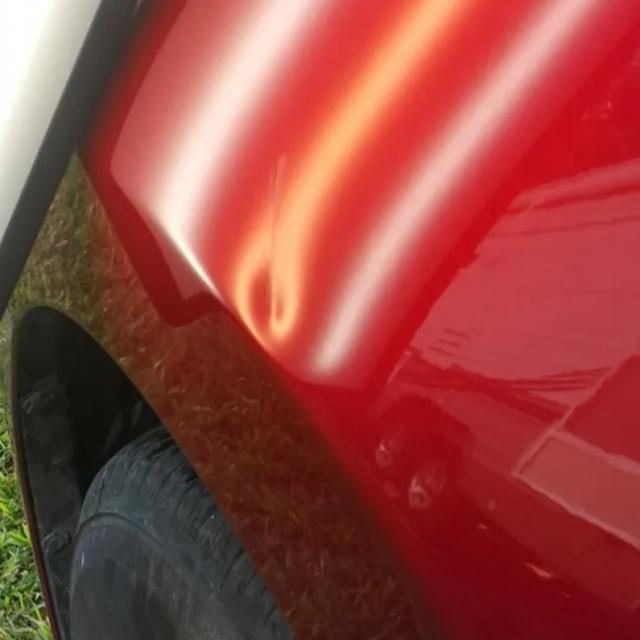dents: (210, 215, 317, 368)
